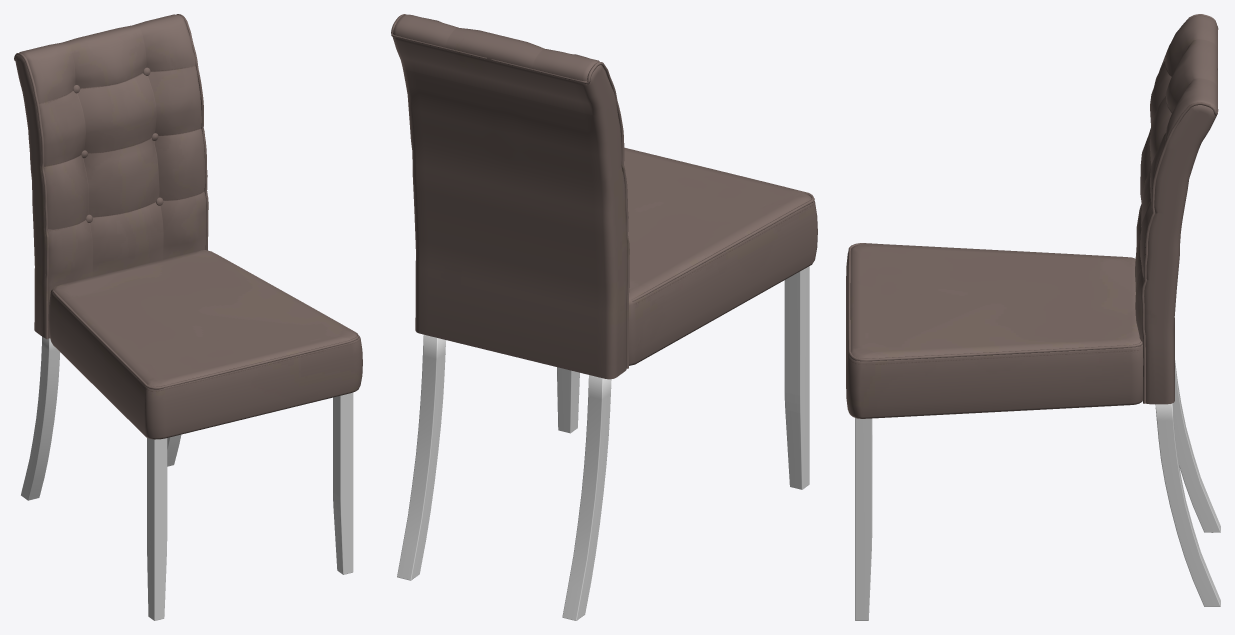
The model's file is chair1.glb.
3 views of the same model, side by side, from view 1: azimuth 30°, elevation 25°; view 2: azimuth 150°, elevation 25°; view 3: azimuth 270°, elevation 25° (orthographic). The views are drawn at different scales.
Parts seen in each view (by area): view 1: velvet, wood; view 2: velvet, wood; view 3: velvet, wood.
Boxes of the visible parts, x1,y1,x2,y2 form: velvet: (14, 14, 362, 439); wood: (21, 337, 353, 620); velvet: (391, 14, 817, 379); wood: (397, 266, 809, 620); velvet: (846, 14, 1218, 418); wood: (855, 360, 1220, 620).
Bounding box in the file's own units: 10.85 × 21.56 × 14.34.
2 materials, 2 textured.
